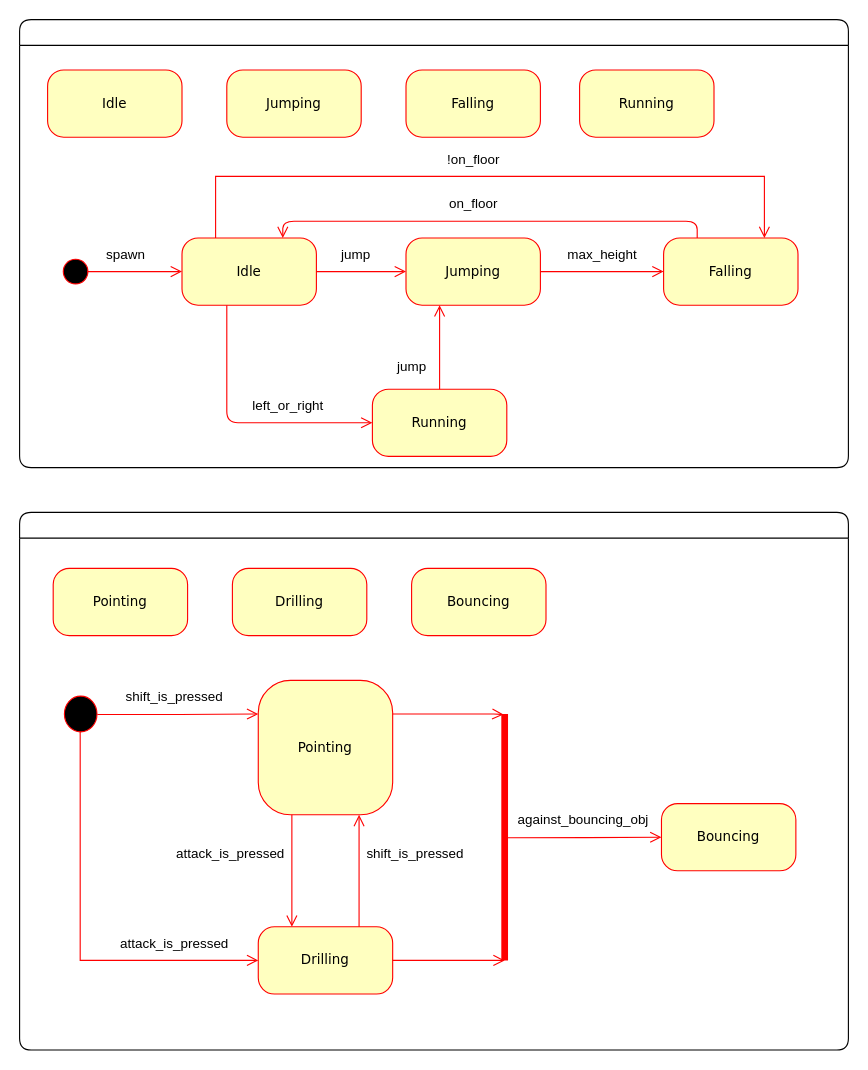
This 868x1070 diagram has some shape labels left out. The shapes that lost their labels are listed below. From the top down, each one's box as (x1, y1, x2, y2) in pixels, then its label:
(18, 18, 848, 468): character_states
(18, 511, 848, 1050): drill_states
